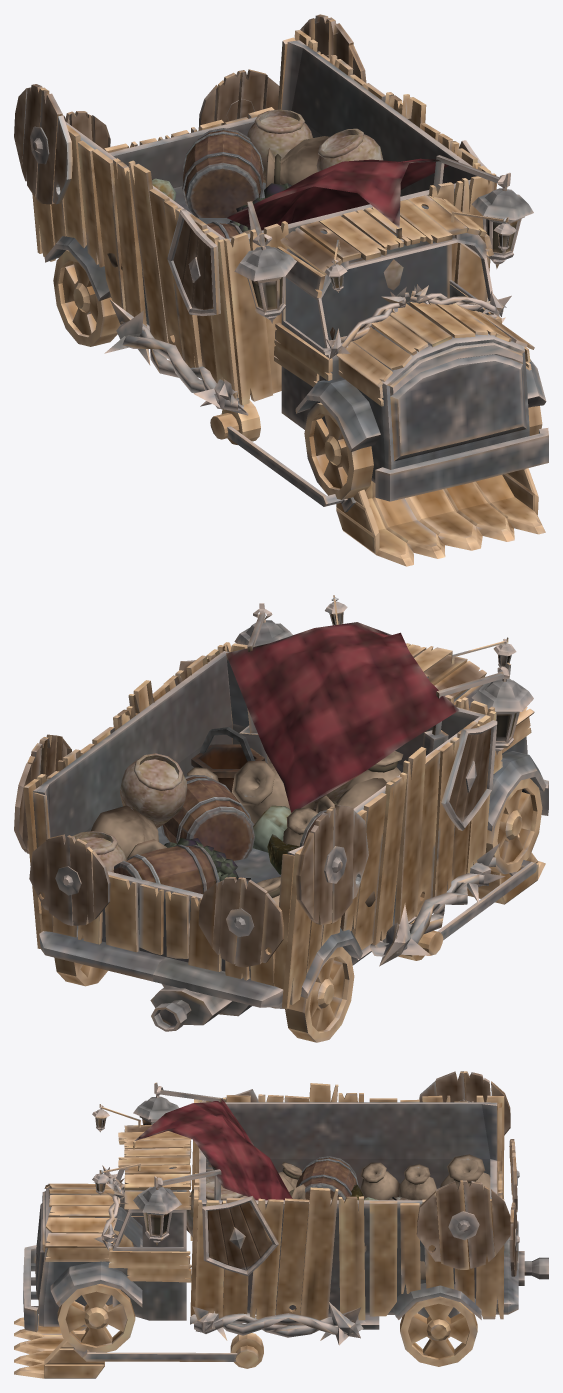
Rendered from Truck_v006.fbx.
3 views of the same model, one above another, from view 1: azimuth 30°, elevation 25°; view 2: azimuth 150°, elevation 25°; view 3: azimuth 270°, elevation 25° (orthographic). The views are drawn at different scales.
Visible parts, largest first — view 1: Truck_core, Truck_wood, Truck_details, Truck_fork, Truck_items, Truck_wheelFront, Truck_wheelBack; view 2: Truck_details, Truck_wood, Truck_core, Truck_items, Truck_wheelBack, Truck_wheelFront, Truck_fork; view 3: Truck_wood, Truck_core, Truck_details, Truck_items, Truck_fork, Truck_wheelFront, Truck_wheelBack.
Boxes of the visible parts, x1=… form: Truck_core: x1=44, y1=40, x2=548, y2=501; Truck_wood: x1=32, y1=30, x2=534, y2=406; Truck_details: x1=14, y1=14, x2=533, y2=415; Truck_fork: x1=210, y1=400, x2=545, y2=566; Truck_items: x1=107, y1=109, x2=403, y2=339; Truck_wheelFront: x1=304, y1=402, x2=542, y2=499; Truck_wheelBack: x1=53, y1=250, x2=120, y2=346; Truck_details: x1=14, y1=597, x2=533, y2=967; Truck_wood: x1=23, y1=595, x2=534, y2=1009; Truck_core: x1=33, y1=603, x2=548, y2=1031; Truck_items: x1=72, y1=727, x2=403, y2=906; Truck_wheelBack: x1=54, y1=947, x2=354, y2=1042; Truck_wheelFront: x1=485, y1=778, x2=542, y2=874; Truck_fork: x1=398, y1=834, x2=545, y2=960; Truck_wood: x1=44, y1=1083, x2=504, y2=1323; Truck_core: x1=23, y1=1082, x2=548, y2=1332; Truck_details: x1=92, y1=1071, x2=519, y2=1345; Truck_items: x1=186, y1=1154, x2=490, y2=1279; Truck_fork: x1=14, y1=1274, x2=263, y2=1378; Truck_wheelFront: x1=57, y1=1230, x2=135, y2=1352; Truck_wheelBack: x1=400, y1=1296, x2=477, y2=1366.
Bounding box in the file's own units: 254 × 217 × 460.
